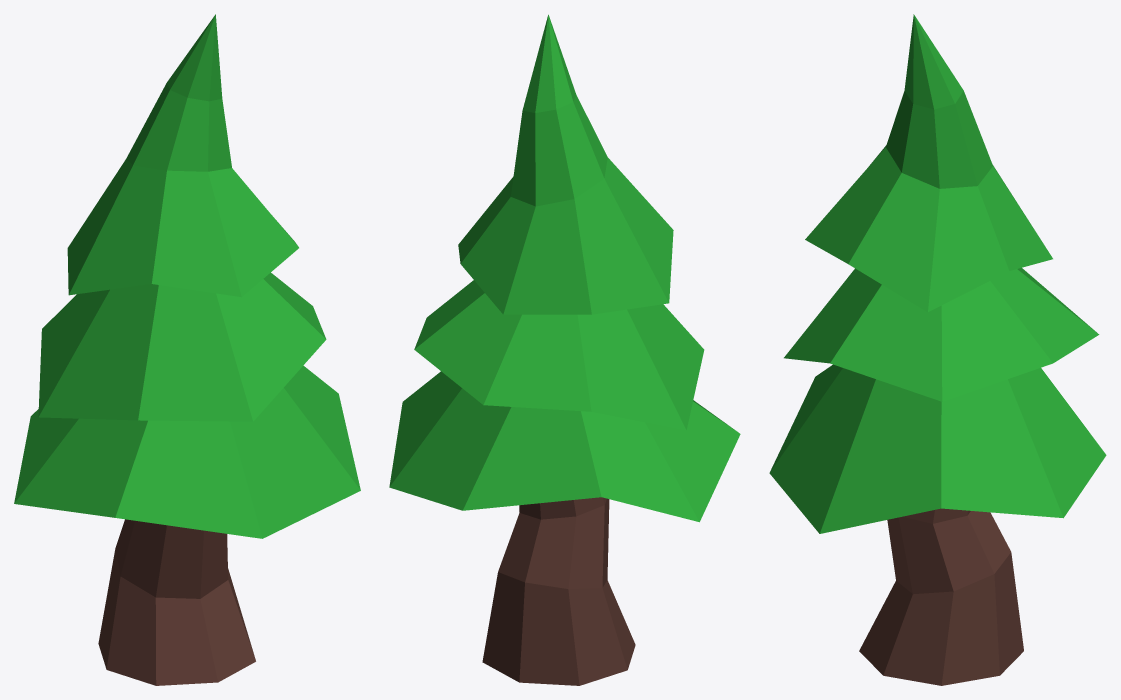
The model's file is tree_14.FBX.
3 views of the same model, side by side, from view 1: azimuth 30°, elevation 25°; view 2: azimuth 150°, elevation 25°; view 3: azimuth 270°, elevation 25° (orthographic). The views are drawn at different scales.
Parts seen in each view (by area): view 1: tree_14; view 2: tree_14; view 3: tree_14.
Part boxes in pixels (x1=…): tree_14: x1=14, y1=14, x2=360, y2=685; tree_14: x1=389, y1=14, x2=740, y2=685; tree_14: x1=769, y1=14, x2=1106, y2=685.
Size of the model in its own units: 5.16 by 10.05 by 4.73.
1 material, 1 textured.
